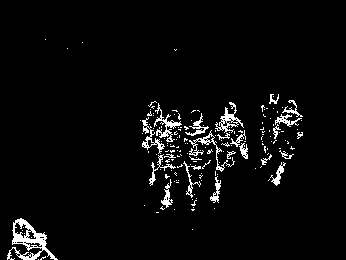person: (212, 98, 249, 206), (182, 109, 213, 214), (139, 99, 168, 192), (276, 100, 303, 191), (161, 110, 184, 210), (261, 91, 280, 168)
